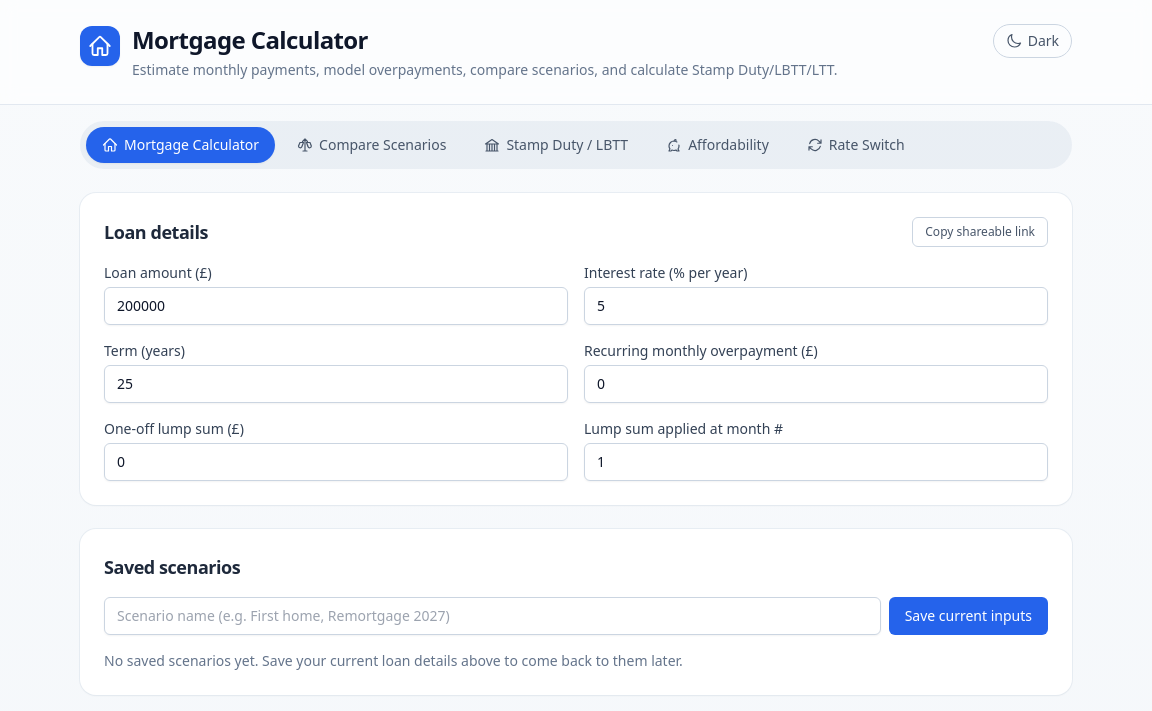
App › switches to the Affordability tab when clicked
This screenshot has width=1152, height=711.
Click the button "Affordability".
click(718, 145)  # box [650, 127, 785, 163]
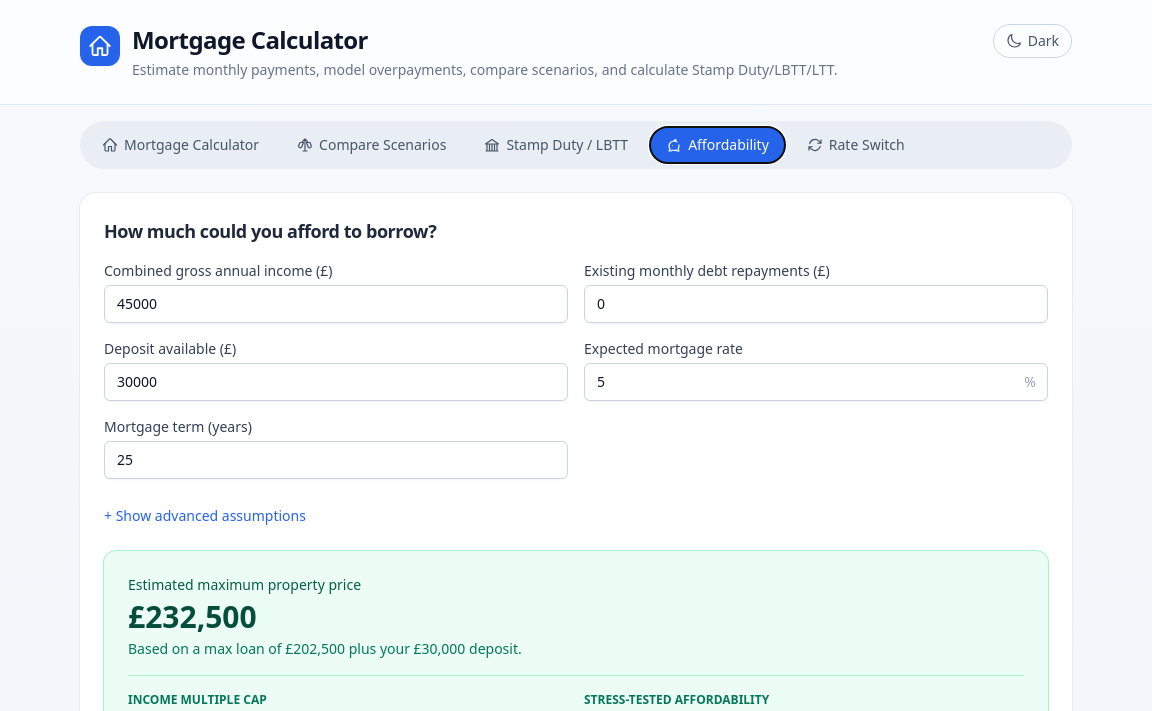
Expected: the heading "How much could you afford to borrow?" is shown, [104, 217, 436, 245]
